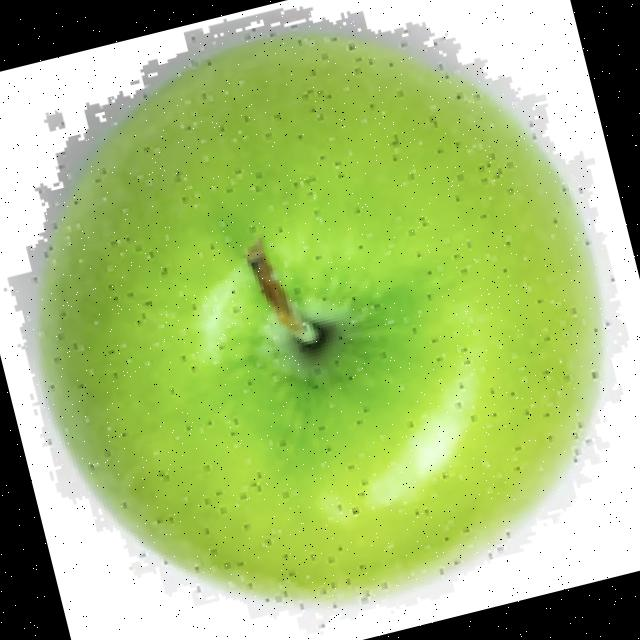apple: (2, 4, 632, 637)
